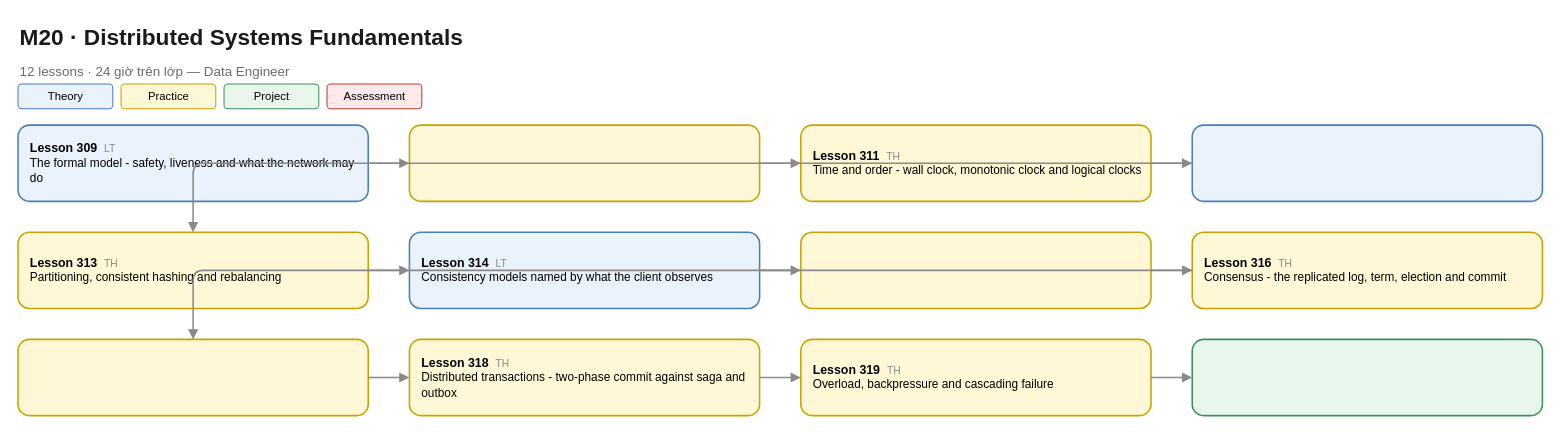
The diagram is 1561 pixels wide and 434 high, and some of its shapes have lost their labels. The centre of each missing label's shape, as x and y in pixels:
"Lesson 310 TH Failure modes and why a timeout is not a failure" goes at (x=584, y=163).
"Lesson 312 LT Replication - single leader, multi leader, leaderless" goes at (x=1367, y=163).
"Lesson 315 TH Quorum reasoning, and why a quorum is not linearizability" goes at (x=975, y=270).
"Lesson 317 TH Leases, fencing tokens and the returning old leader" goes at (x=193, y=377).
"Lesson 320 DA History analysis project - judge a guarantee from evidence" goes at (x=1367, y=377).
